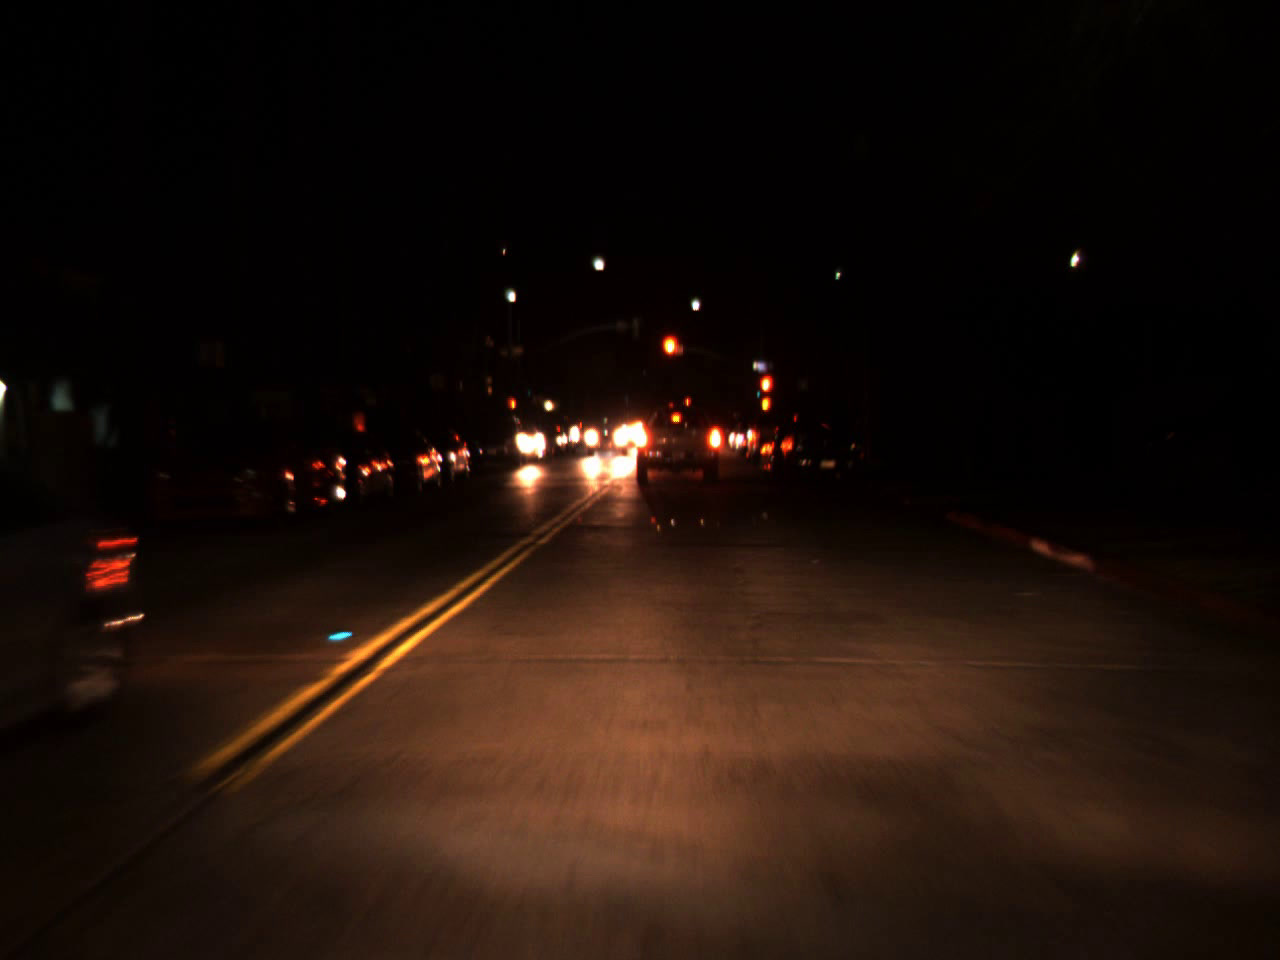stop: (659, 331, 681, 379), (758, 372, 774, 415)
